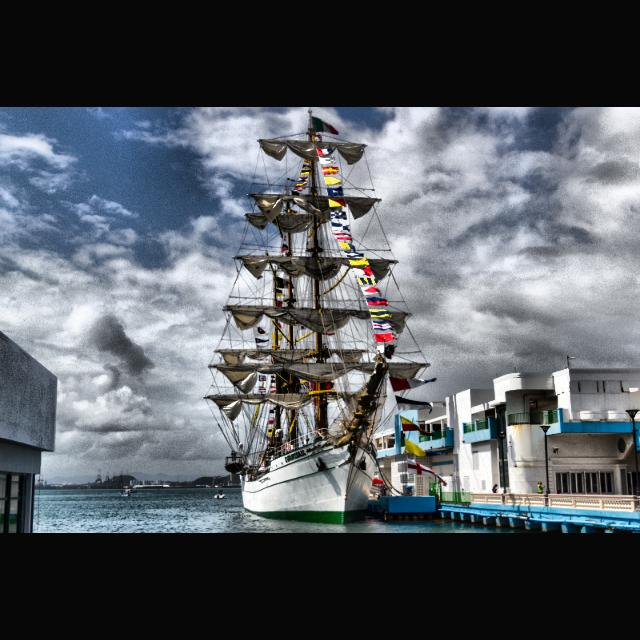sailing_vessel: (202, 109, 432, 528)
